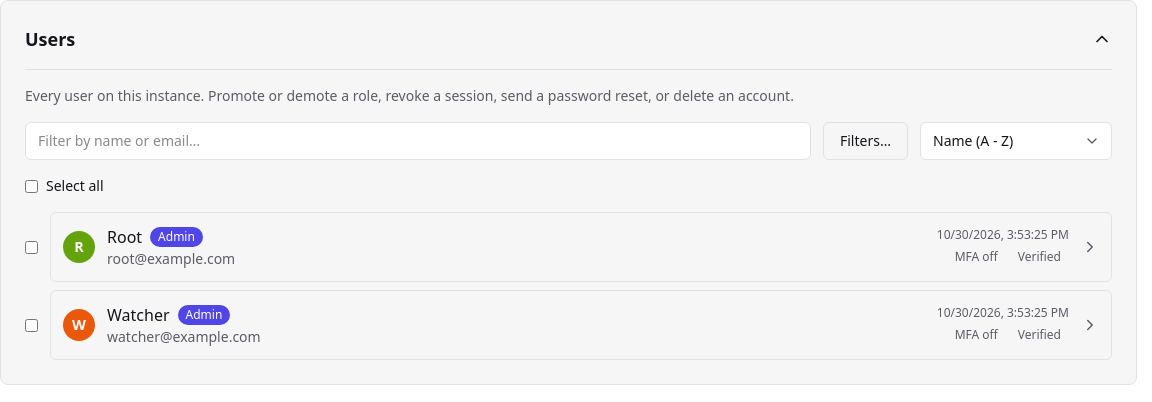
Test case: UsersPanel › narrows the list to matching name or email as you type
Expected: the text "Watcher" is shown, x1=107 y1=303 x2=170 y2=327
Type "watcher" into the search field named "Filter users".
click(418, 141); type("watcher")  # box x1=25 y1=122 x2=811 y2=160
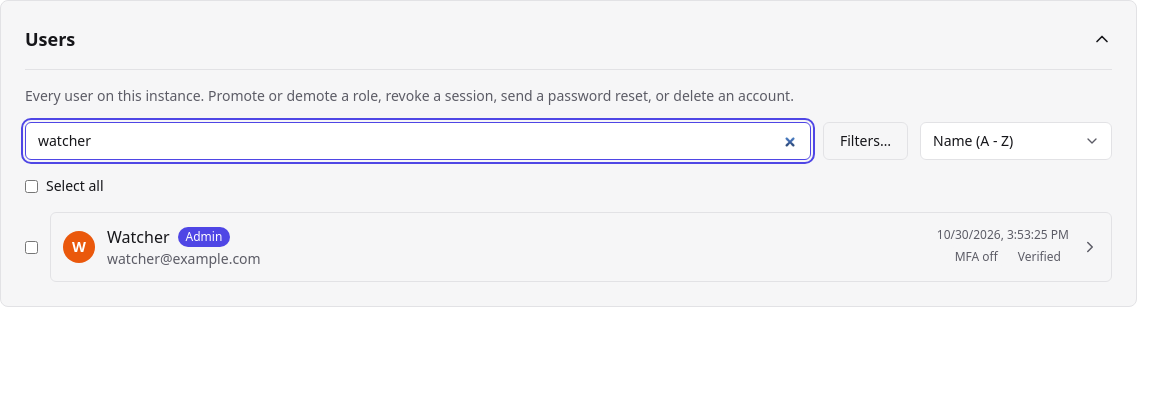
Expected: the link shows "Watcher", x1=50 y1=212 x2=1112 y2=282
Expected: the number of links is 1, x1=50 y1=212 x2=1112 y2=282
